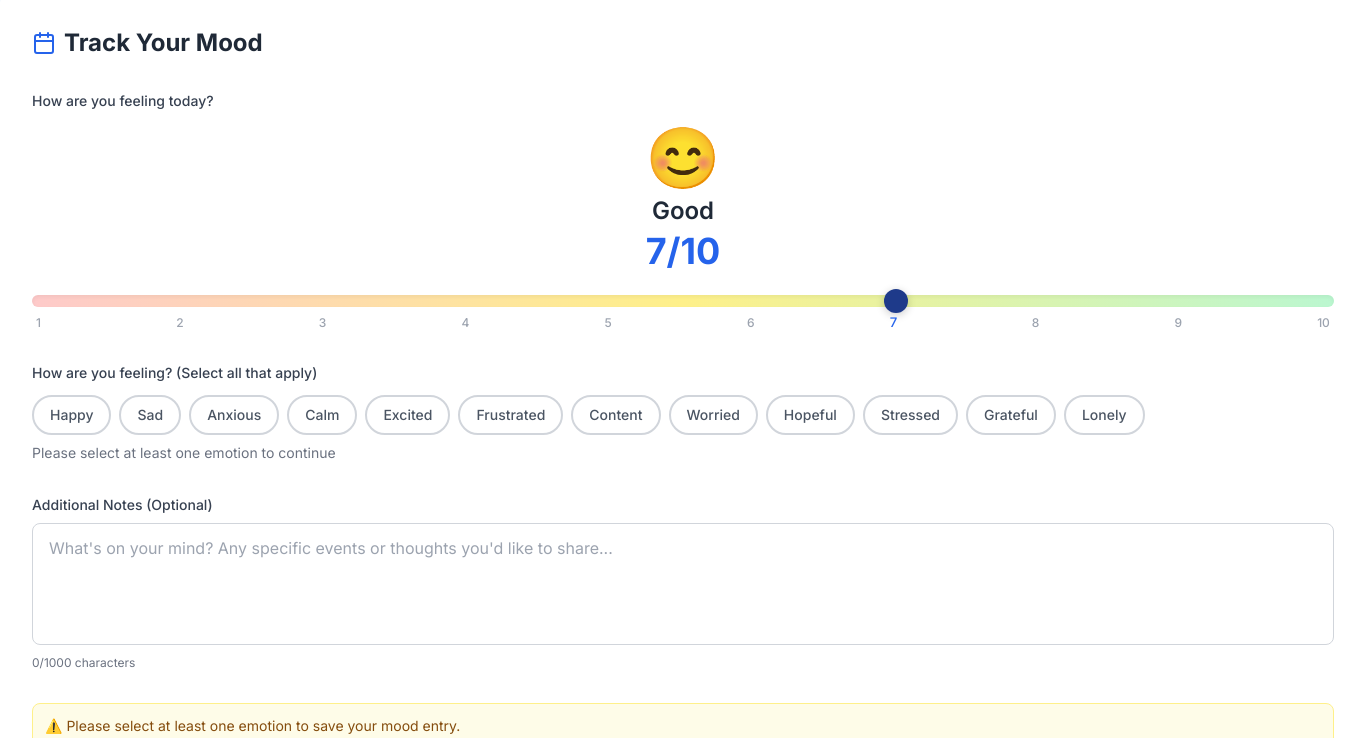
it: ClientView Component › resets form after successful submission
The width and height of the screenshot is (1366, 738).
# Fill form
Step 1. Click the checkbox "Happy" → [72, 415], box [32,395,112,435]
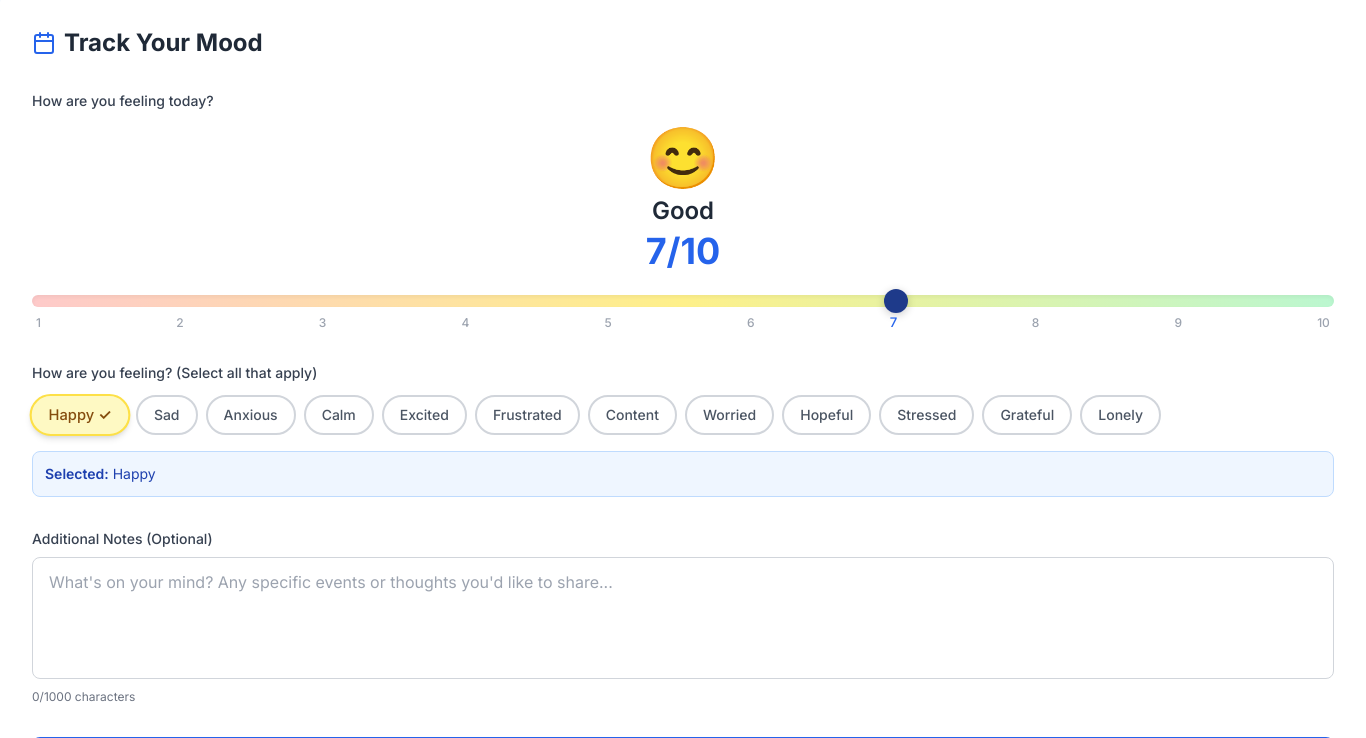
Step 2. Replace the text in the text box with placeholder "What's on your mind" with "Test notes" → [683, 618], box [32,557,1334,679]
(page scrolled)
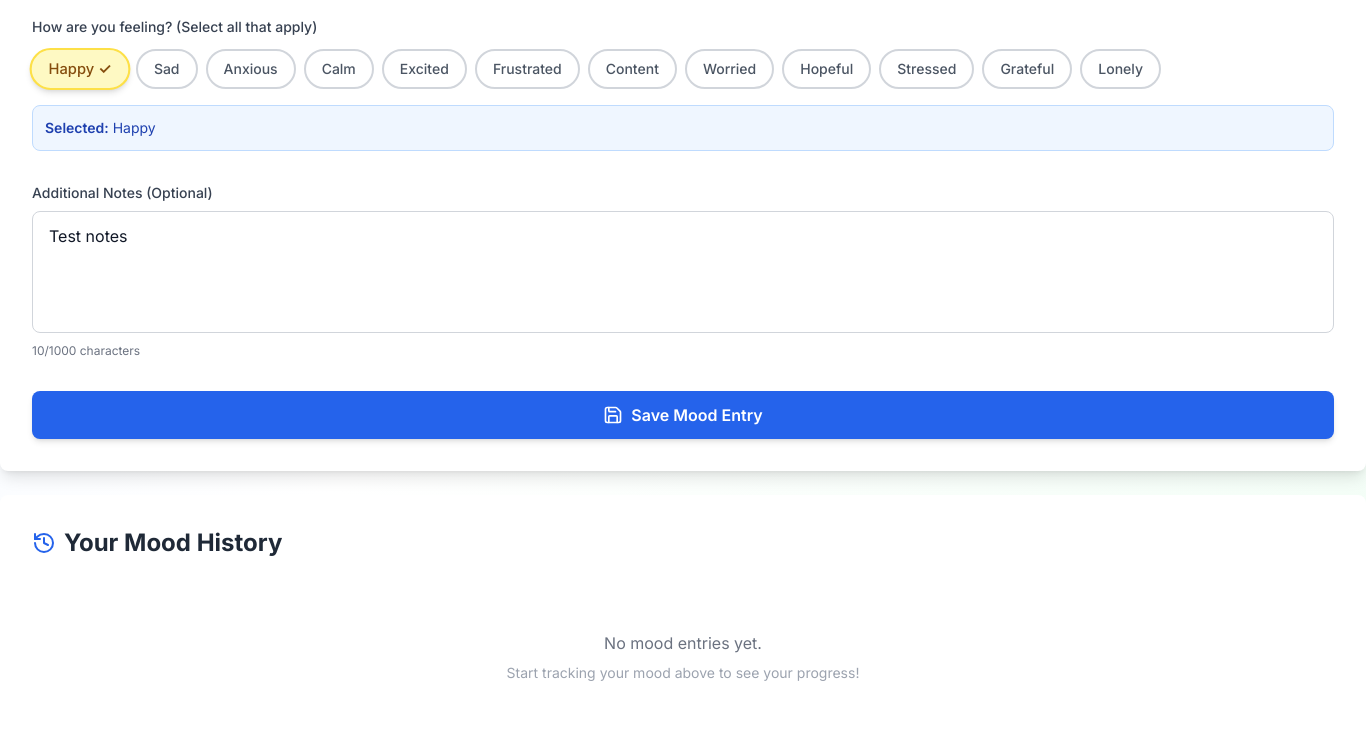
Step 3. Click the button "Save Mood Entry" → [683, 415], box [32,391,1334,439]
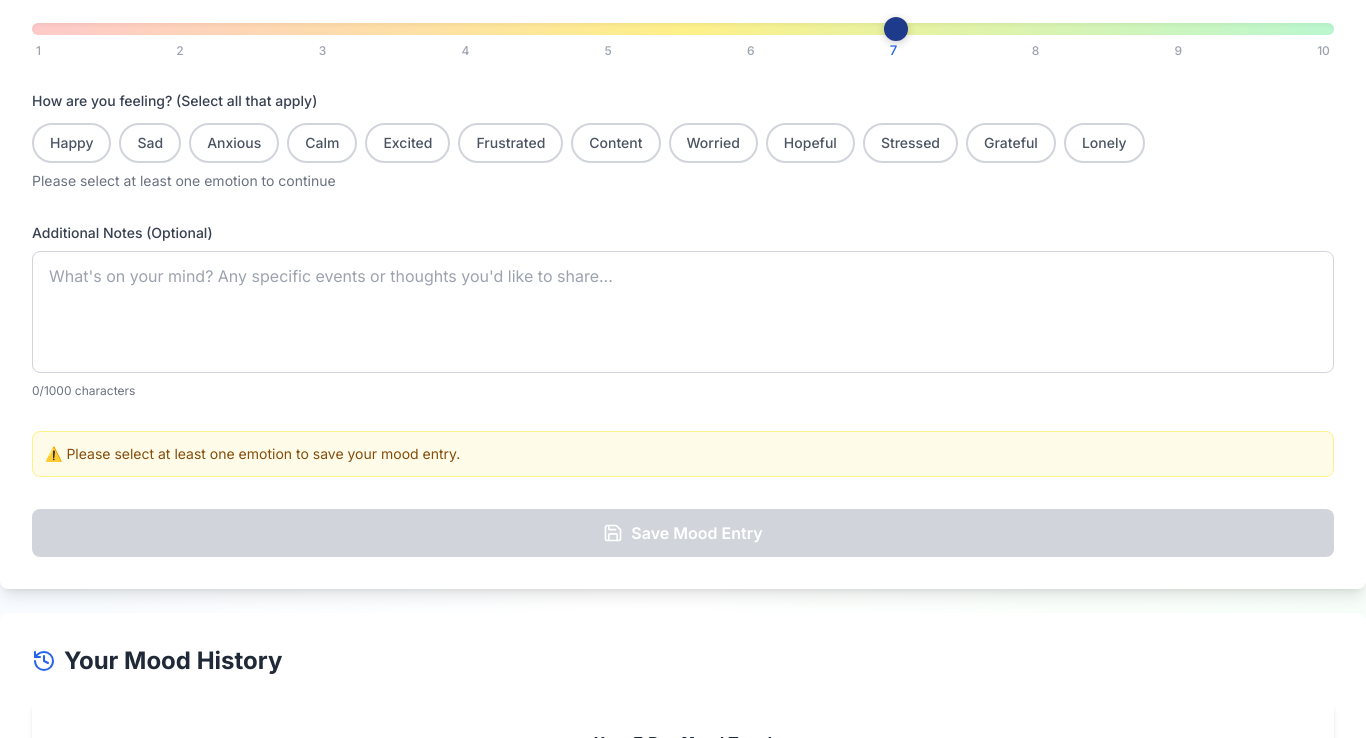
Now the text box with placeholder "What's on your mind" is empty, box [32,251,1334,373]
Now the button "Save Mood Entry" is disabled, box [32,509,1334,557]
